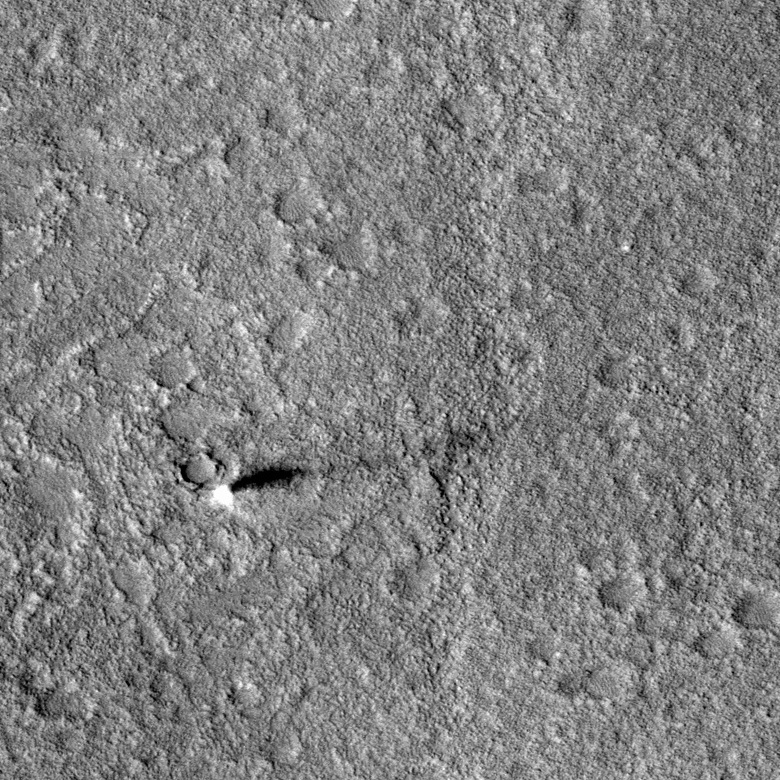dust_devil: (208, 463, 312, 514)
